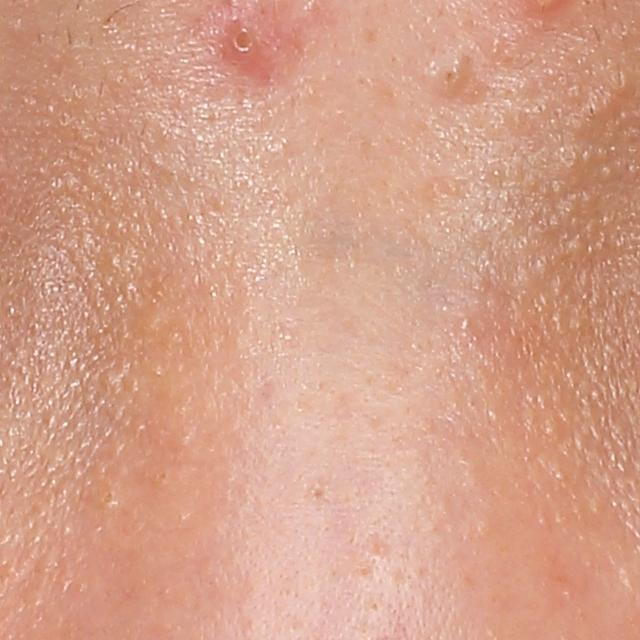comedo: (428, 58, 471, 98), (98, 487, 119, 507), (153, 468, 172, 485)
papule: (218, 10, 276, 75)
